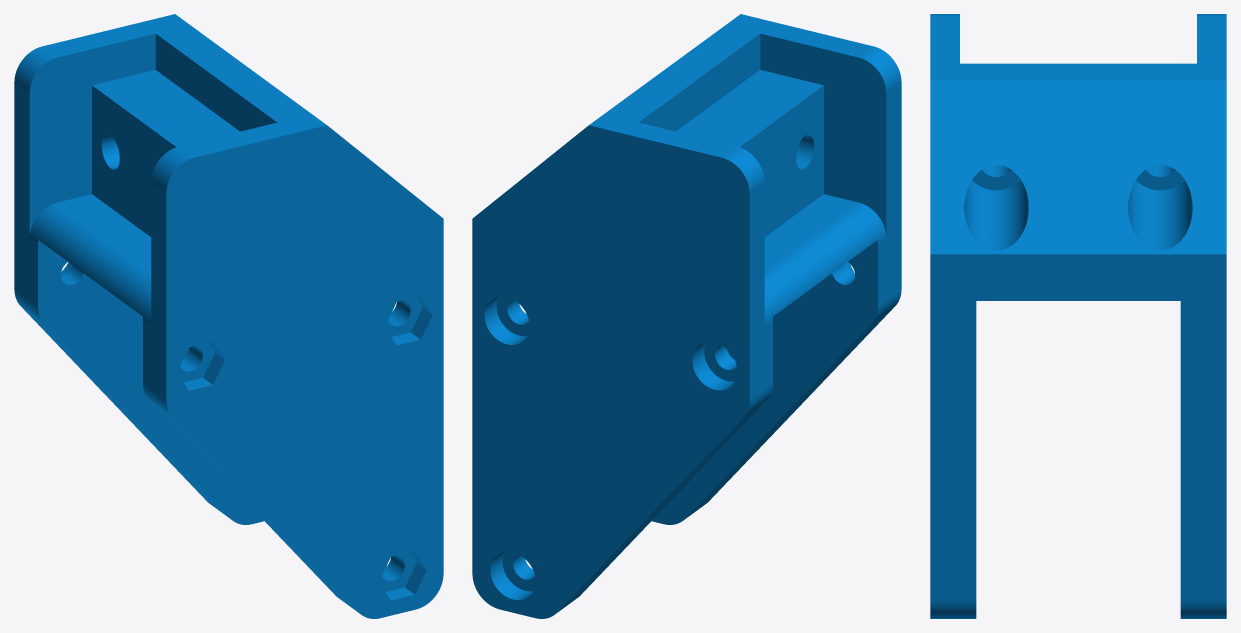
The model's file is wsg50_mount-finger_holder_right.gltf.
The picture shows the model from 3 angles, left to right: view 1: azimuth 30°, elevation 25°; view 2: azimuth 150°, elevation 25°; view 3: azimuth 270°, elevation 25°; orthographic projection. The views are drawn at different scales.
Visible parts, largest first — view 1: wsg50_mount_-_finger_holder_right; view 2: wsg50_mount_-_finger_holder_right; view 3: wsg50_mount_-_finger_holder_right.
Part boxes in pixels (left/top/right/bottom): wsg50_mount_-_finger_holder_right: left=14, top=14, right=443, bottom=618; wsg50_mount_-_finger_holder_right: left=472, top=14, right=901, bottom=618; wsg50_mount_-_finger_holder_right: left=930, top=14, right=1226, bottom=618.
Bounding box in the file's own units: 40 × 69.8 × 38.
